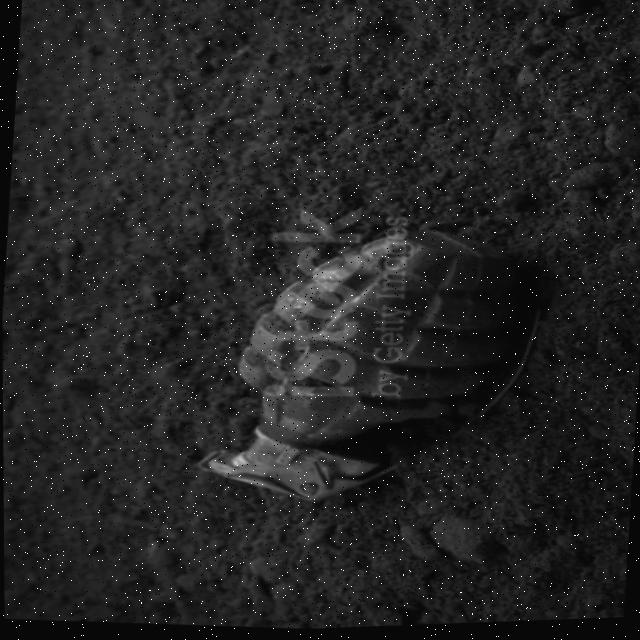grenade: (189, 205, 560, 519)
